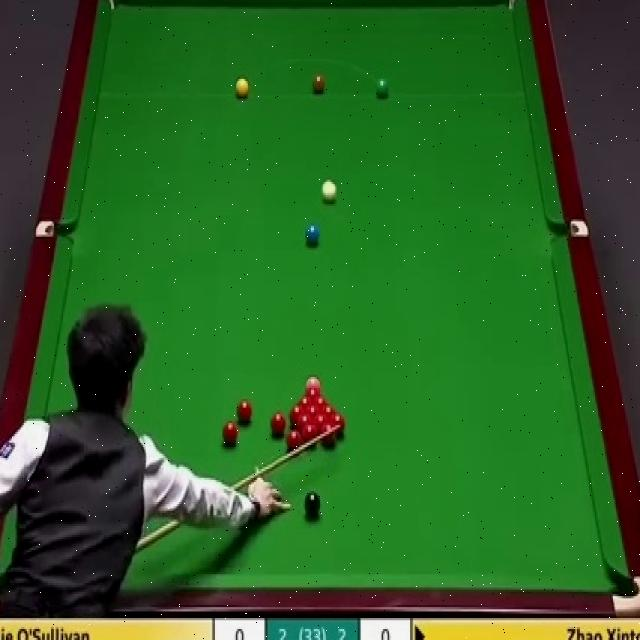black-ball: (304, 490, 321, 518)
blue-ball: (305, 225, 320, 243)
brown-ball: (312, 74, 325, 94)
green-ball: (374, 75, 390, 99)
pink-ball: (306, 377, 321, 392)
red-ball: (285, 428, 305, 452), (318, 424, 338, 447), (327, 412, 344, 436), (222, 421, 238, 445), (236, 400, 253, 422), (305, 422, 320, 446), (270, 413, 286, 435), (314, 414, 329, 436), (291, 404, 303, 418), (306, 389, 318, 402), (307, 405, 318, 419)
white-ball: (320, 179, 340, 203)
yellow-ball: (235, 77, 249, 99)
